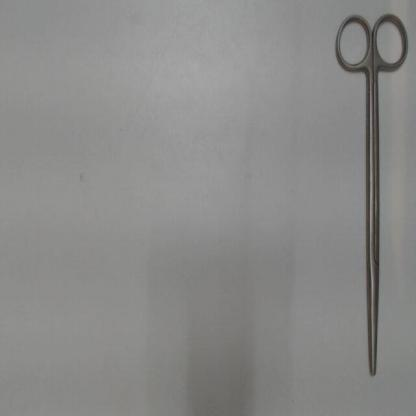9 Metzenbaum Scissors: (332, 7, 412, 380)
